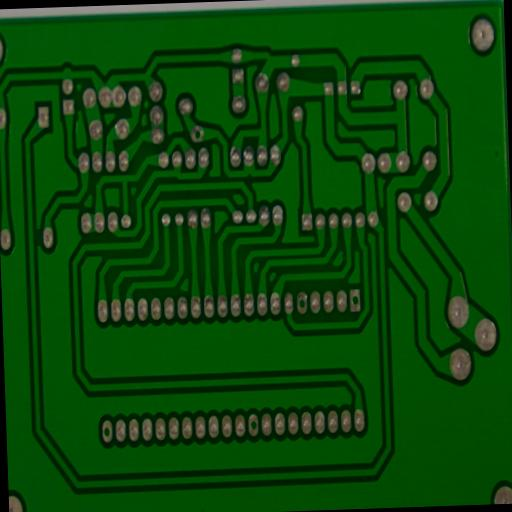missing_hole: (347, 289, 362, 313), (246, 414, 260, 436), (190, 126, 204, 141), (101, 422, 112, 441), (296, 295, 306, 313)
